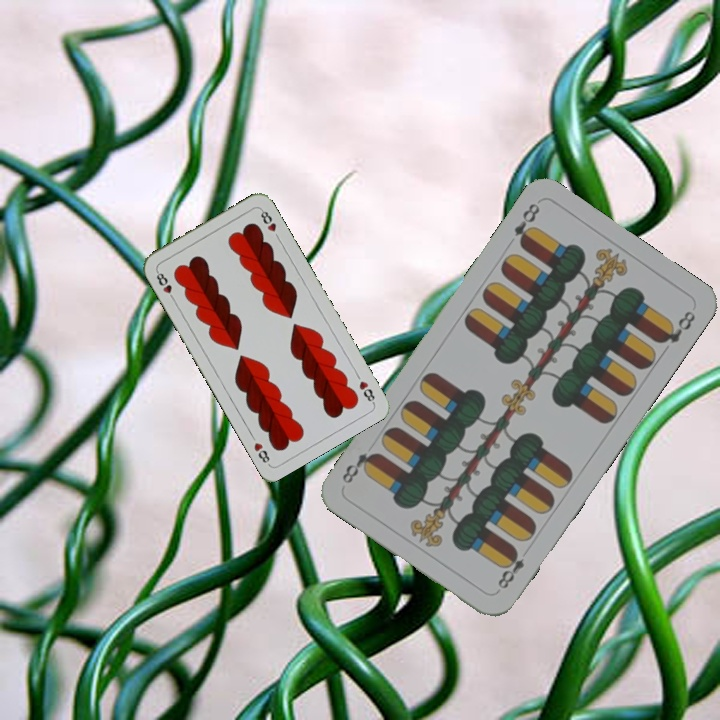E8: (509, 199, 543, 251), (493, 544, 527, 592)
H8: (152, 267, 178, 304), (355, 377, 377, 406)
